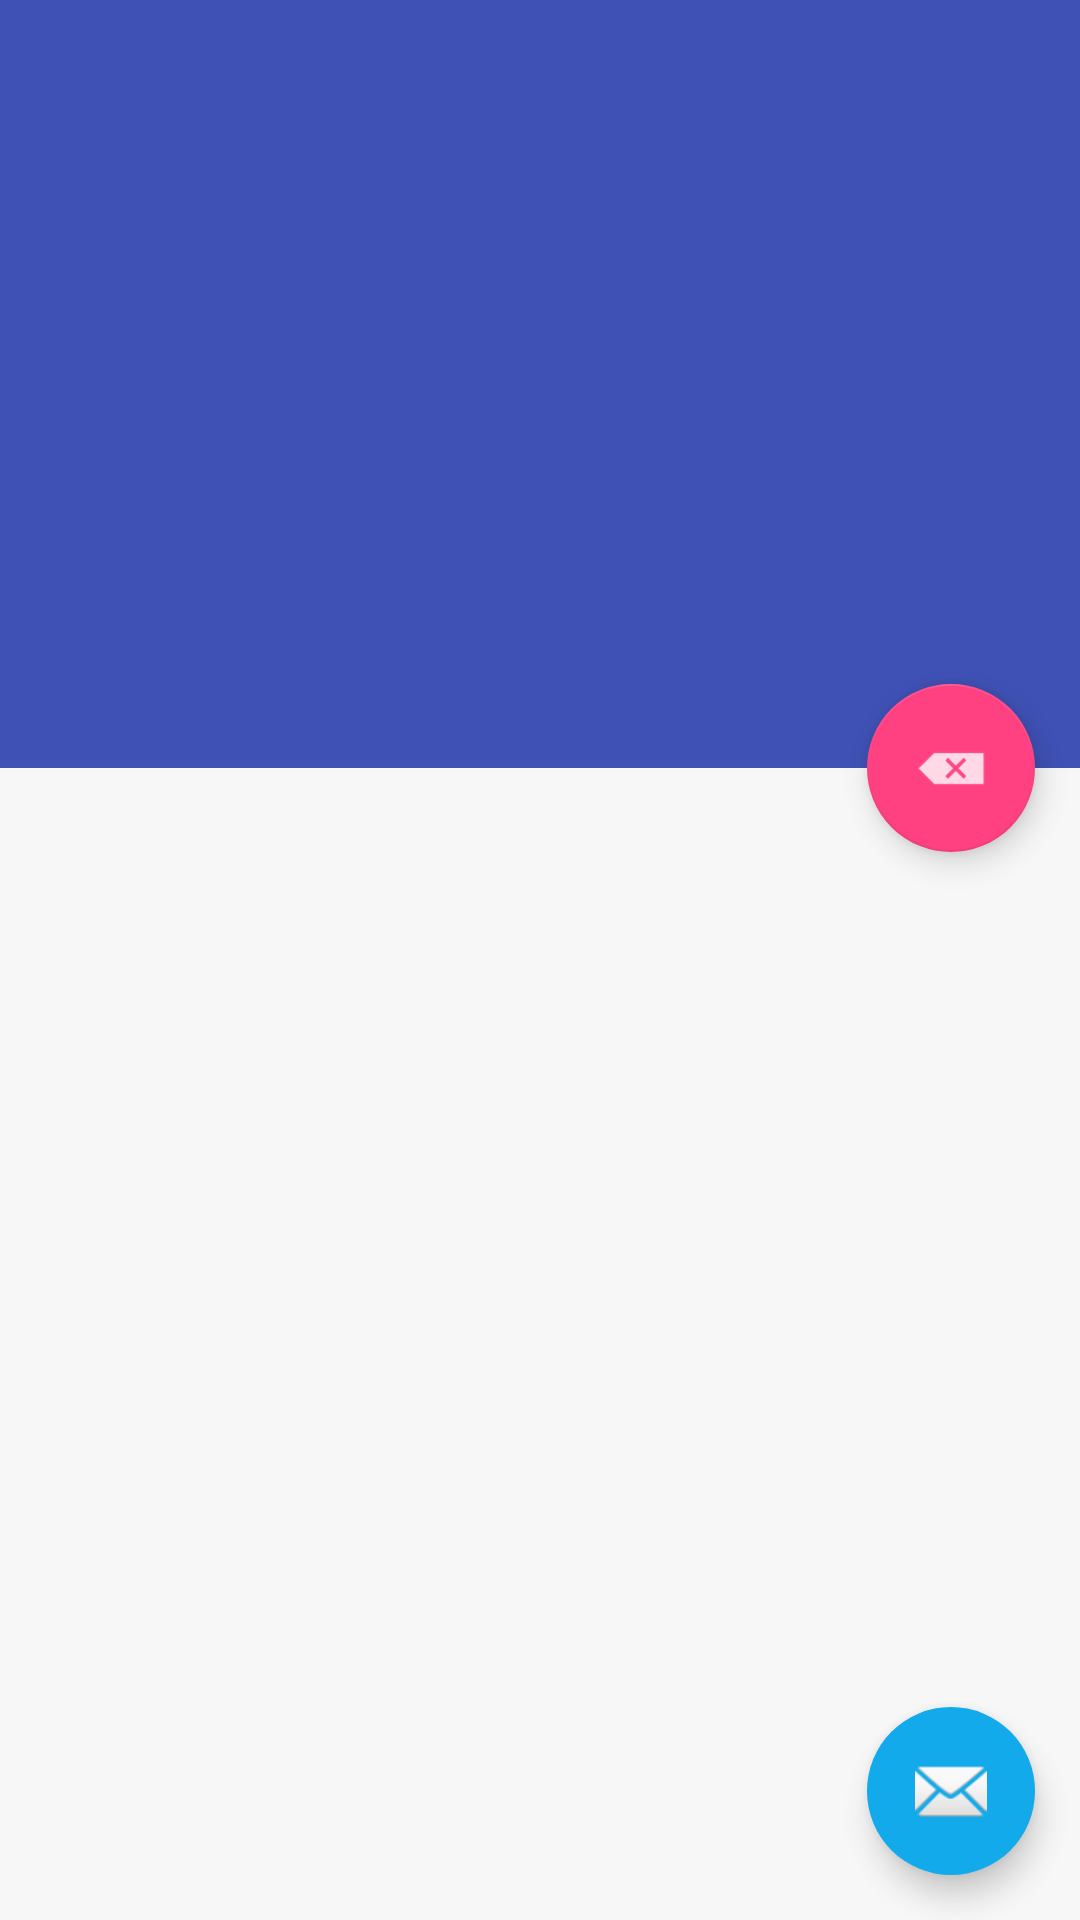

Where to tap for icons on this 1080 × 1920 app screen, as point (x, y):
delete: point (951, 768)
email: point (951, 1791)
